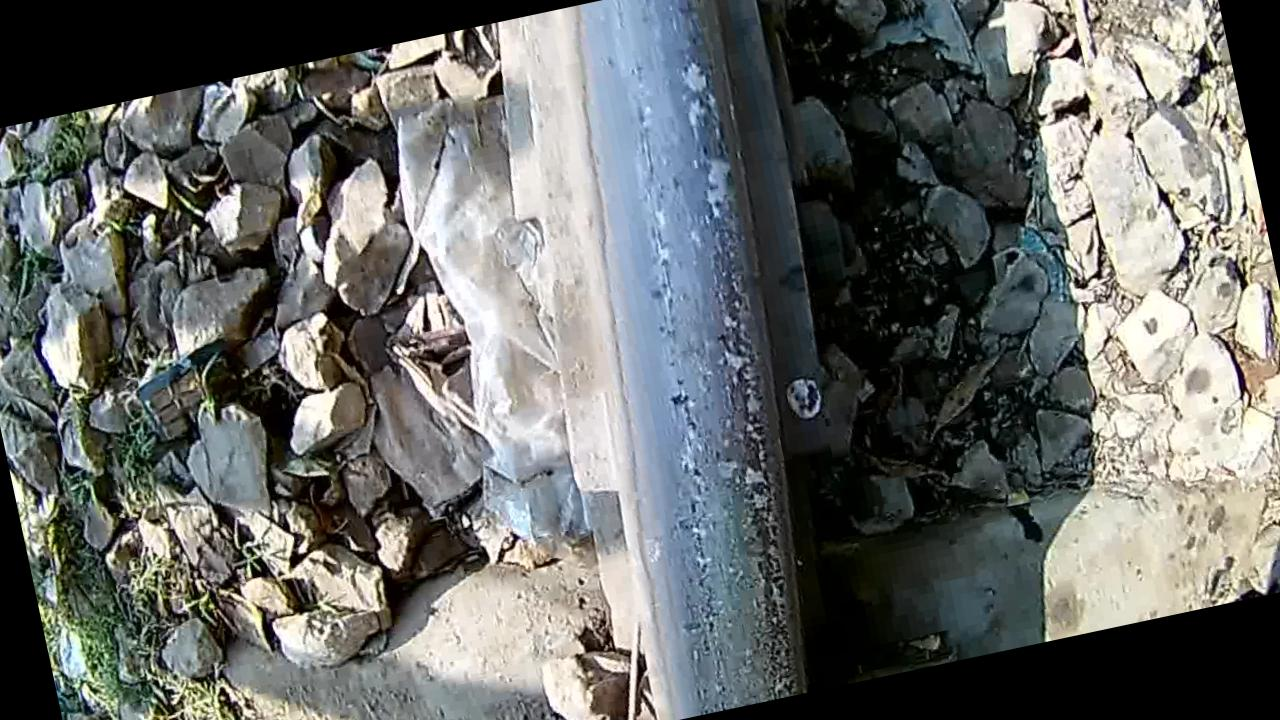clip_missing: (538, 0, 867, 717)
